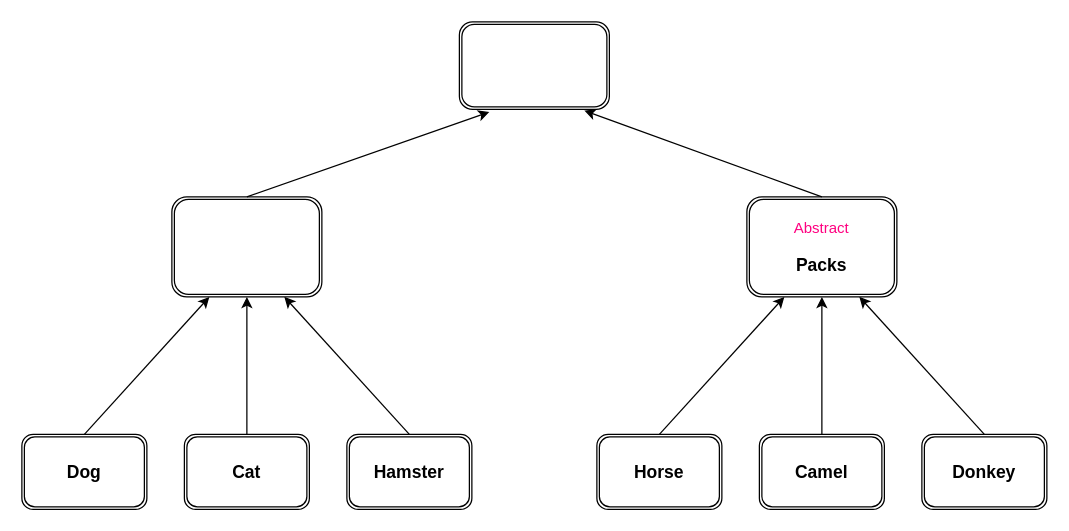
The diagram is 1069 pixels wide and 531 high, and some of its shapes have lost their labels. The box of each missing label's shape, as (x1, y1, x2, y2) in pixels:
Abstract Animals: (458, 21, 609, 109)
Abstract Pets: (171, 196, 322, 297)
